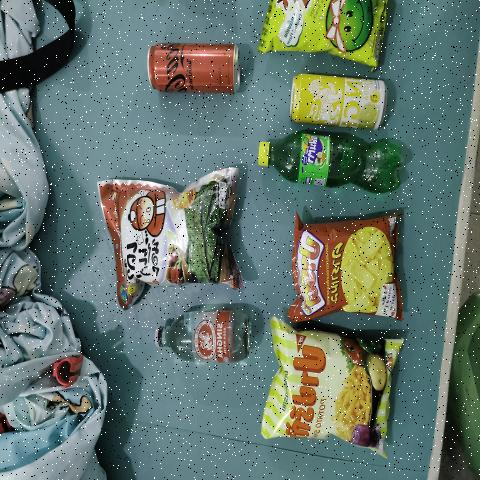coke_red: (146, 42, 243, 91)
fanta_green: (256, 135, 405, 195)
paprika: (276, 327, 381, 453)
party_red: (299, 228, 396, 310)
singha_soda: (154, 308, 253, 363)
singha_yellow: (288, 71, 390, 120)
taokaenoi: (108, 182, 239, 286)
